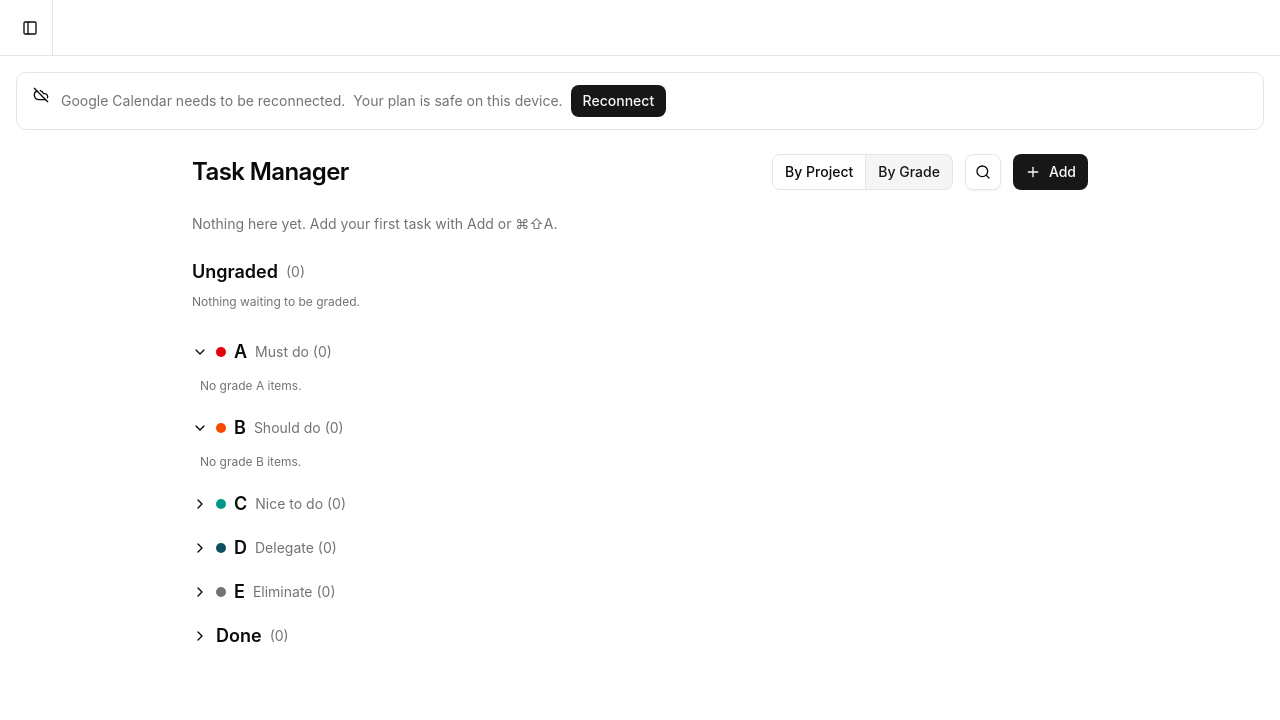
Test: Plan: events and push › shows a Reconnect banner when the linked session cannot be renewed
Expected: the message with test id "gcal-banner" shows "needs to be reconnected", [61,92,345,109]
Click the button with test id "gcal-reconnect": (618, 101) [571,85,666,117]
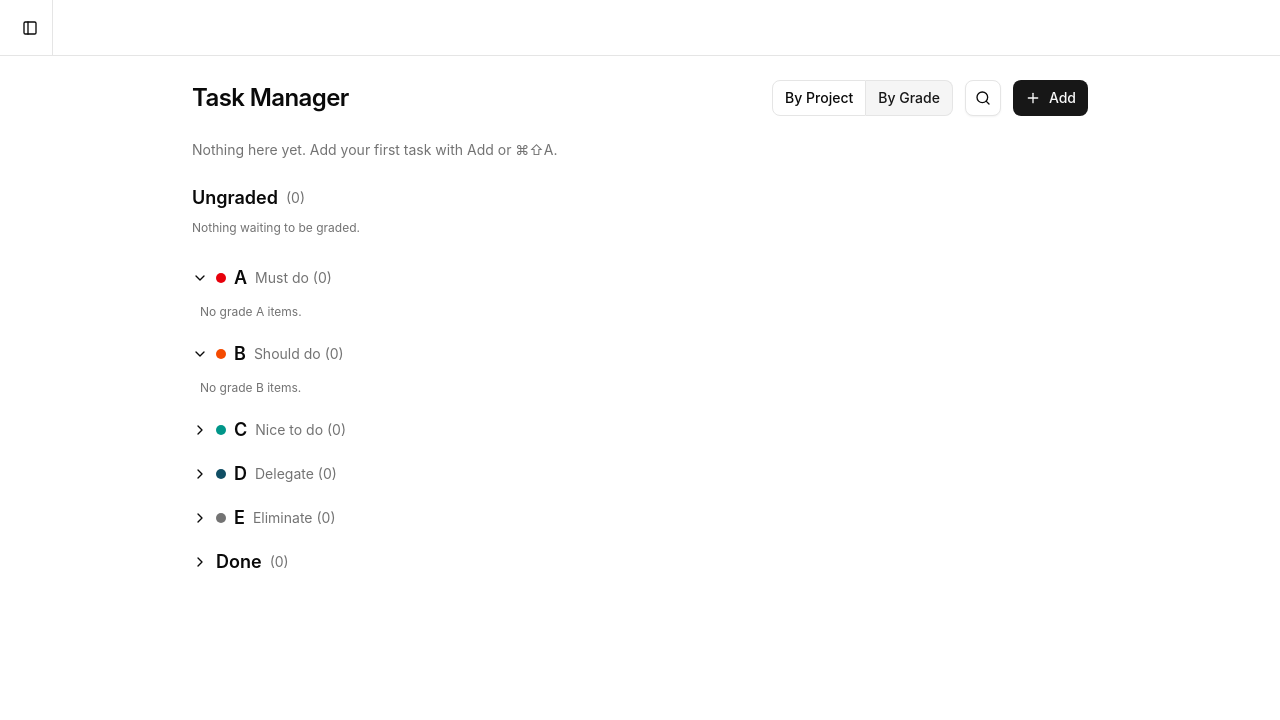
Result: the message with test id "gcal-banner" is gone
